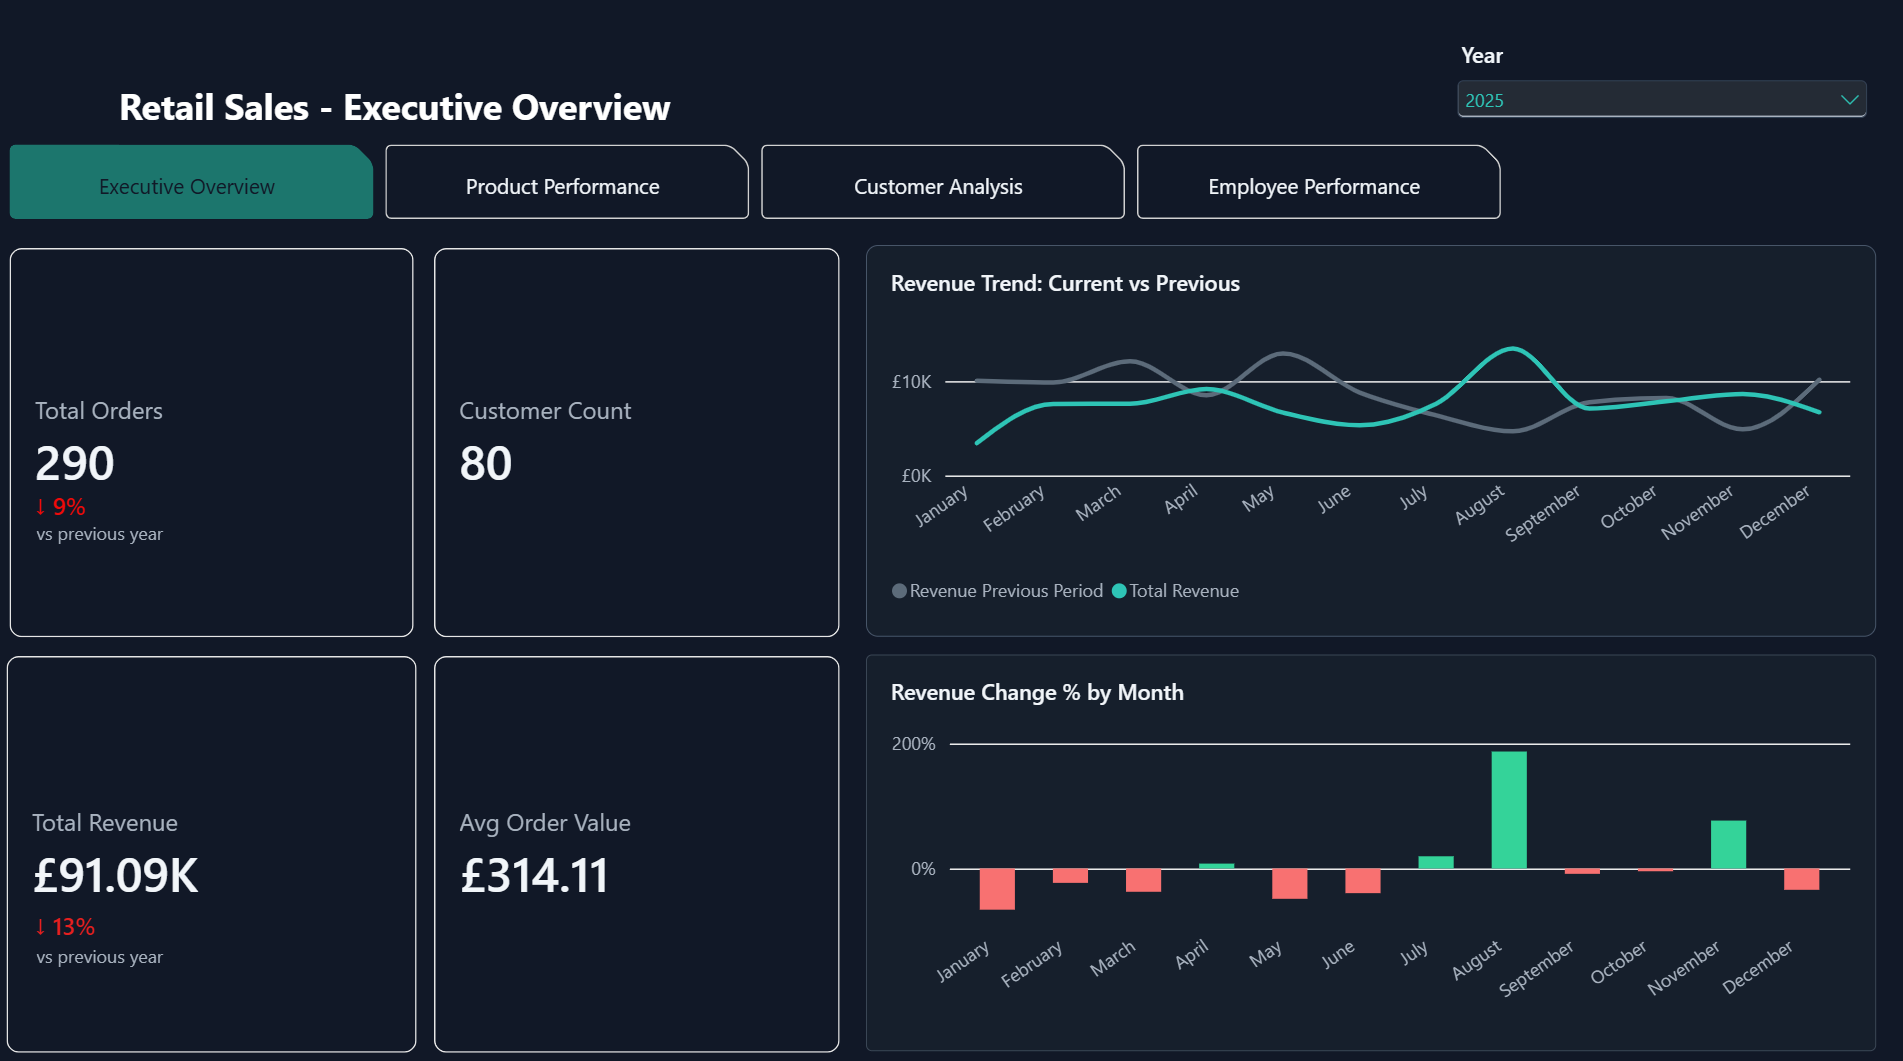

The page's visual inventory and layout, read from the dashboard file:
{"tool":"powerbi","page":{"name":"Executive Overview","canvas":[1280,720],"ordinal":0},"visuals":[{"type":"cardVisual","fields":{"Data":["public order_items.Total Revenue"]},"box":[5,446.2,275,266.2],"z":0},{"type":"cardVisual","fields":{"Data":["public orders.Total Orders"]},"box":[7.5,172.5,271.2,261.2],"z":1000},{"type":"cardVisual","fields":{"Data":["public orders.Avg Order Value"]},"box":[291.2,446.2,272.5,266.2],"z":2000},{"type":"cardVisual","fields":{"Data":["public orders.Customer Count"]},"box":[291.2,172.5,272.5,261.2],"z":3000},{"type":"lineChart","title":"Revenue Trend: Current vs Previous ","fields":{"Y":["public order_items.Revenue Previous Period","public order_items.Total Revenue"],"Category":["DateTable.Month"]},"box":[581.4,171.4,677.1,262.9],"z":4000},{"type":"textbox","box":[80,61.2,527.5,42.5],"z":5000},{"type":"pageNavigator","box":[7.5,103.8,1000,50],"z":6000},{"type":"cardVisual","fields":{"Data":["public order_items.Revenue Change Label"]},"box":[8,615,175,25],"z":7000},{"type":"cardVisual","fields":{"Data":["public orders.Order Change Label"]},"box":[8,324,85,43],"z":8000},{"type":"textbox","box":[25,356,88,21],"z":9000},{"type":"textbox","box":[25,640,88,21],"z":10000},{"type":"columnChart","fields":{"Category":["DateTable.Month"],"Y":["public order_items.Revenue Change %"]},"box":[581.4,445.7,677.1,265.7],"z":11000},{"type":"slicer","fields":{"Values":["DateTable.Year"]},"box":[972.6,33.4,285.1,55],"z":12000}]}

Visuals, with their boxes in screenshot pixels (x1, y1, x2, y2), scaled from the page's 1280x720 canvas onto the 1903x1061 screenshot:
cardVisual - public order_items.Total Revenue: [7, 658, 416, 1050]
cardVisual - public orders.Total Orders: [11, 254, 414, 639]
cardVisual - public orders.Avg Order Value: [433, 658, 838, 1050]
cardVisual - public orders.Customer Count: [433, 254, 838, 639]
"Revenue Trend: Current vs Previous " lineChart: [864, 253, 1871, 640]
textbox: [119, 90, 903, 153]
pageNavigator: [11, 153, 1498, 227]
cardVisual - public order_items.Revenue Change Label: [12, 906, 272, 943]
cardVisual - public orders.Order Change Label: [12, 477, 138, 541]
textbox: [37, 525, 168, 556]
textbox: [37, 943, 168, 974]
columnChart - DateTable.Month x public order_items.Revenue Change %: [864, 657, 1871, 1048]
slicer - DateTable.Year: [1446, 49, 1870, 130]
